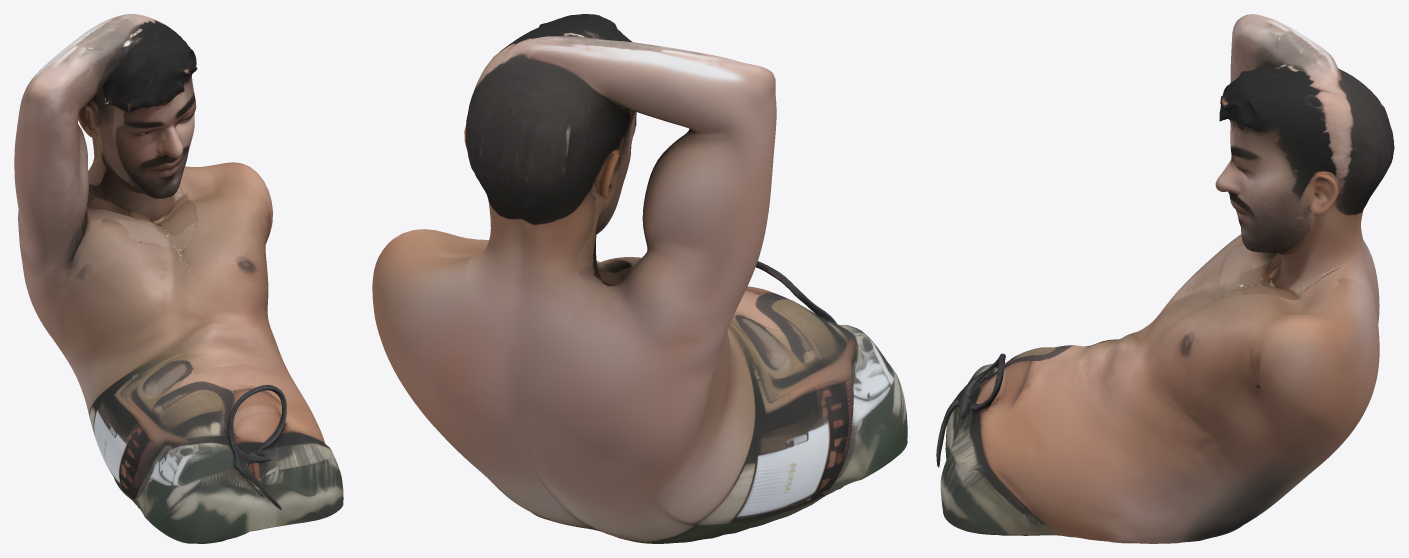
File: resnatao.glb
3 renders of one model, left to right at view 1: azimuth 30°, elevation 25°; view 2: azimuth 150°, elevation 25°; view 3: azimuth 270°, elevation 25°, orthographic. The views are drawn at different scales.
Parts seen in each view (by area): view 1: model; view 2: model; view 3: model.
Part boxes in pixels (<box>): model: <box>14,14,343,543</box>; model: <box>372,14,907,543</box>; model: <box>936,14,1394,543</box>.
Bounding box in the file's own units: 1.28 × 1.79 × 1.71.
Materials: 1 (1 with a texture image).
